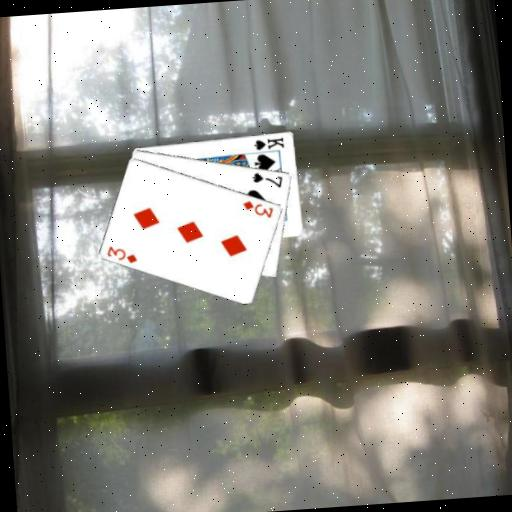3D: (239, 196, 276, 222), (103, 241, 139, 267)
7S: (250, 168, 285, 191)
KS: (251, 134, 287, 152)
